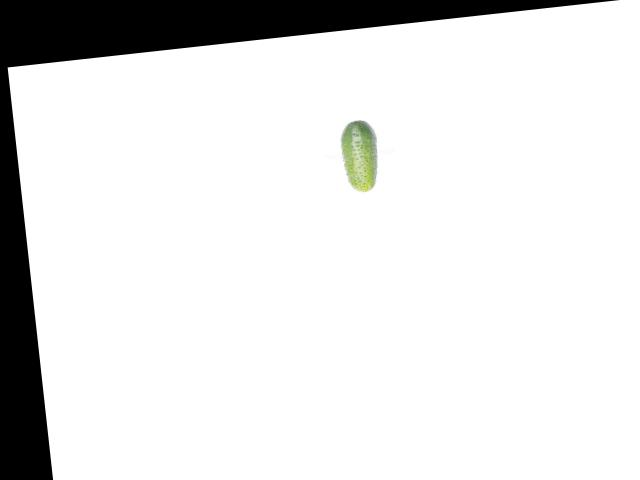cucumber: (337, 118, 381, 194)
